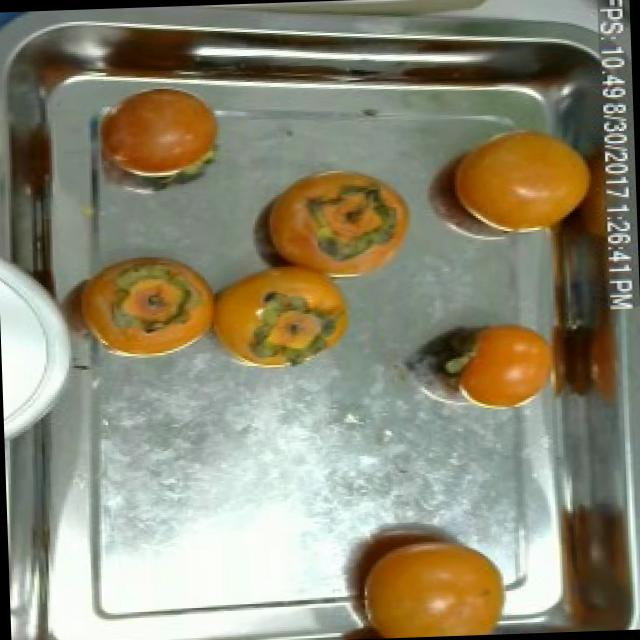Fruit: (332, 512, 522, 640), (248, 156, 422, 286), (59, 241, 230, 371), (440, 114, 600, 246), (517, 487, 640, 633), (85, 79, 234, 194), (431, 308, 559, 422)
